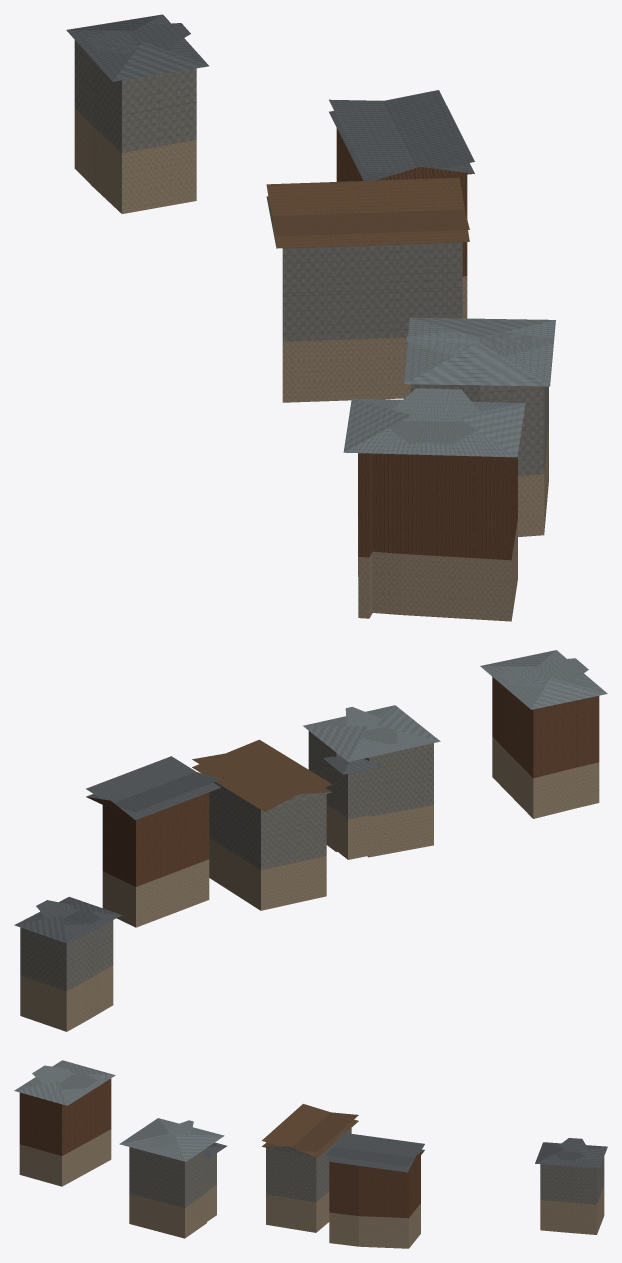
Rendered from bld_c23_-48_532.gltf.
3 renders of one model, top to bottom at view 1: azimuth 30°, elevation 25°; view 2: azimuth 150°, elevation 25°; view 3: azimuth 270°, elevation 25°, orthographic. The views are drawn at different scales.
Parts seen in each view (by area): view 1: bld_c23_-48_532; view 2: bld_c23_-48_532; view 3: bld_c23_-48_532.
Part boxes in pixels (x1=…): bld_c23_-48_532: x1=66, y1=14, x2=555, y2=621; bld_c23_-48_532: x1=14, y1=650, x2=607, y2=1031; bld_c23_-48_532: x1=14, y1=1060, x2=607, y2=1248.
Bounding box in the file's own units: 38.44 × 17.4 × 89.7.
8 materials, 8 textured.
